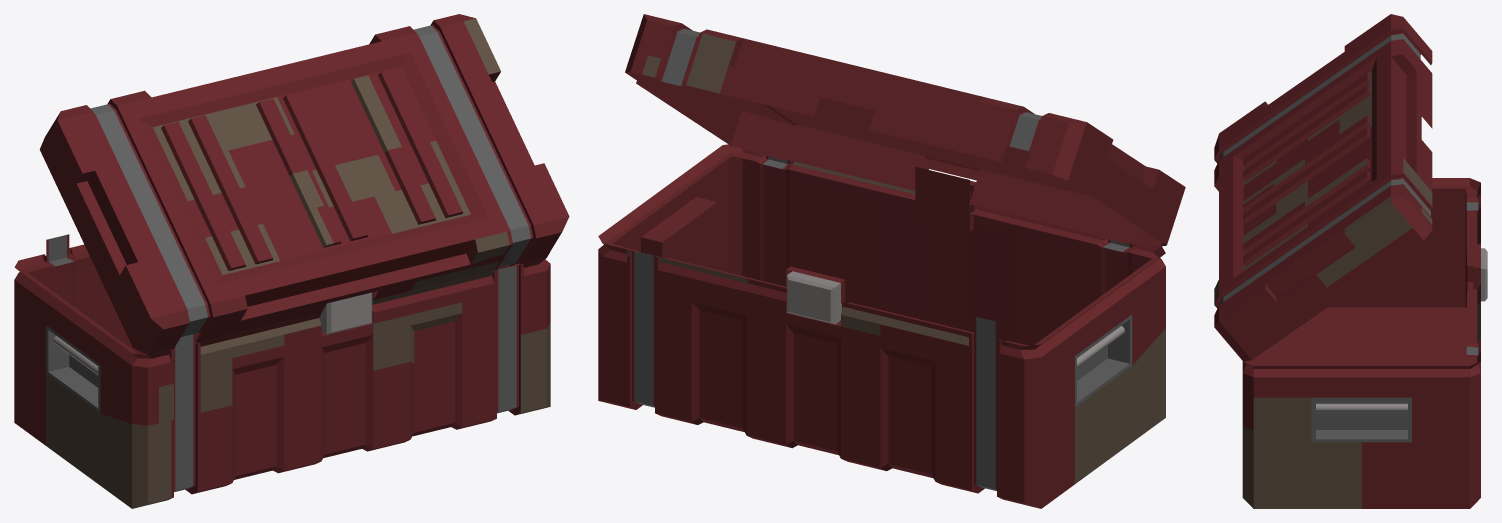
Rendered from chest_preguntes.glb.
The picture shows the model from 3 angles, left to right: view 1: azimuth 30°, elevation 25°; view 2: azimuth 150°, elevation 25°; view 3: azimuth 270°, elevation 25°; orthographic projection. The views are drawn at different scales.
Visible parts, largest first — view 1: lid, Chest_Special; view 2: Chest_Special, lid; view 3: Chest_Special, lid.
Boxes of the visible parts, x1=… form: lid: x1=39, y1=14, x2=569, y2=355; Chest_Special: x1=14, y1=234, x2=550, y2=508; Chest_Special: x1=598, y1=144, x2=1165, y2=508; lid: x1=625, y1=14, x2=1185, y2=248; Chest_Special: x1=1242, y1=178, x2=1487, y2=508; lid: x1=1214, y1=14, x2=1432, y2=361.
Bounding box in the file's own units: 0.8524 × 0.6532 × 0.5247.
Materials: 1 (1 with a texture image).
